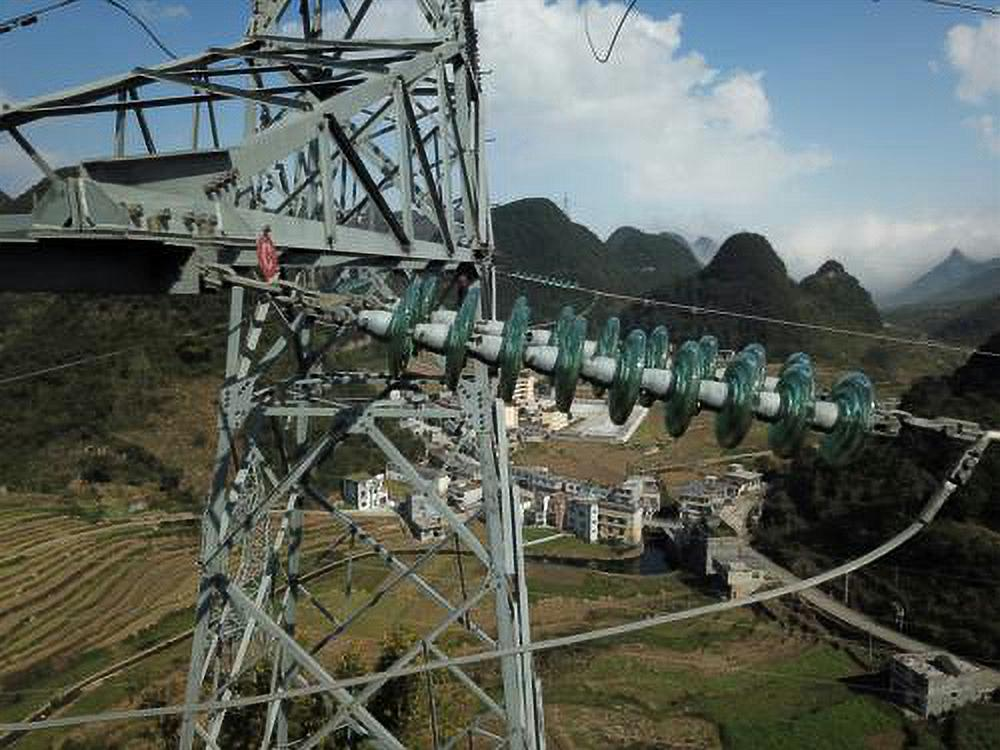insulator: (380, 270, 882, 474)
